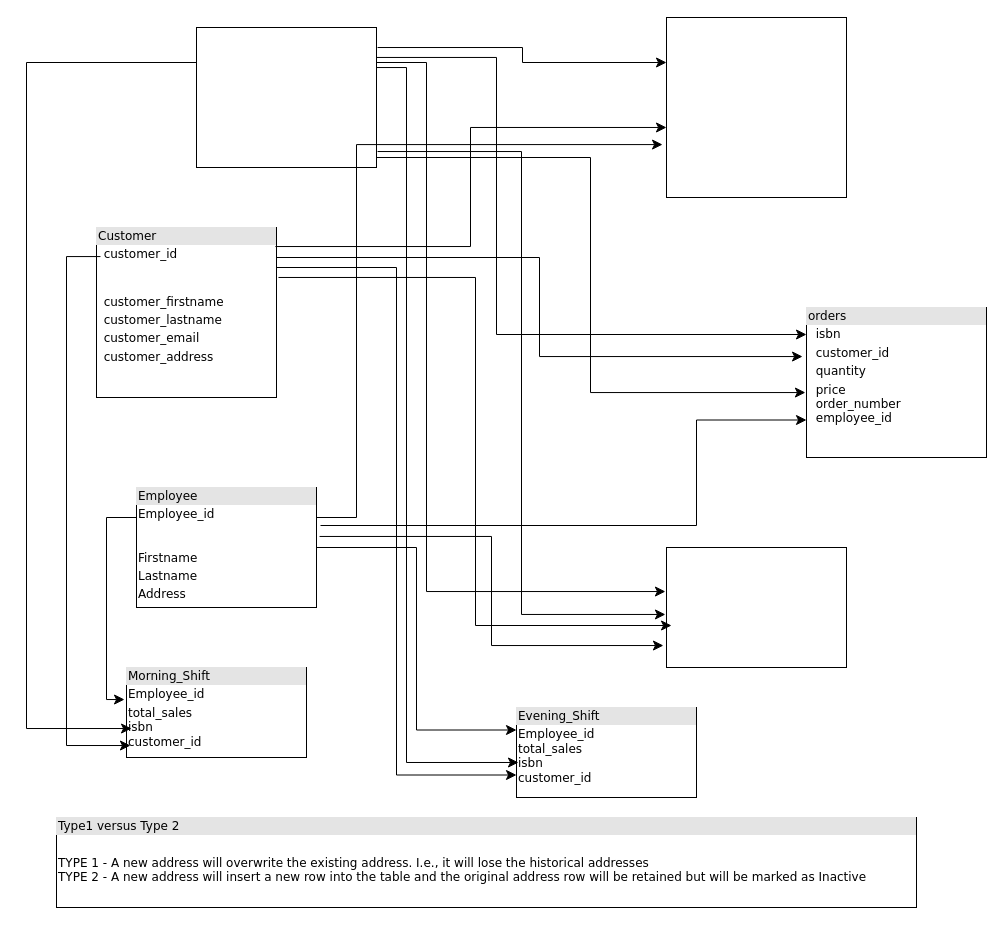
Some shapes in this 1004 by 925 pixel diagram are drawn without their labels. The box of each missing label's shape, as (x1, y1, x2, y2) in pixels:
Books isbn title author genre price: (196, 26, 376, 168)
Date purchase_date isbn price customer_id employee_id: (666, 546, 846, 668)
Sales date isbn customer_id employee_id: (666, 16, 846, 198)
